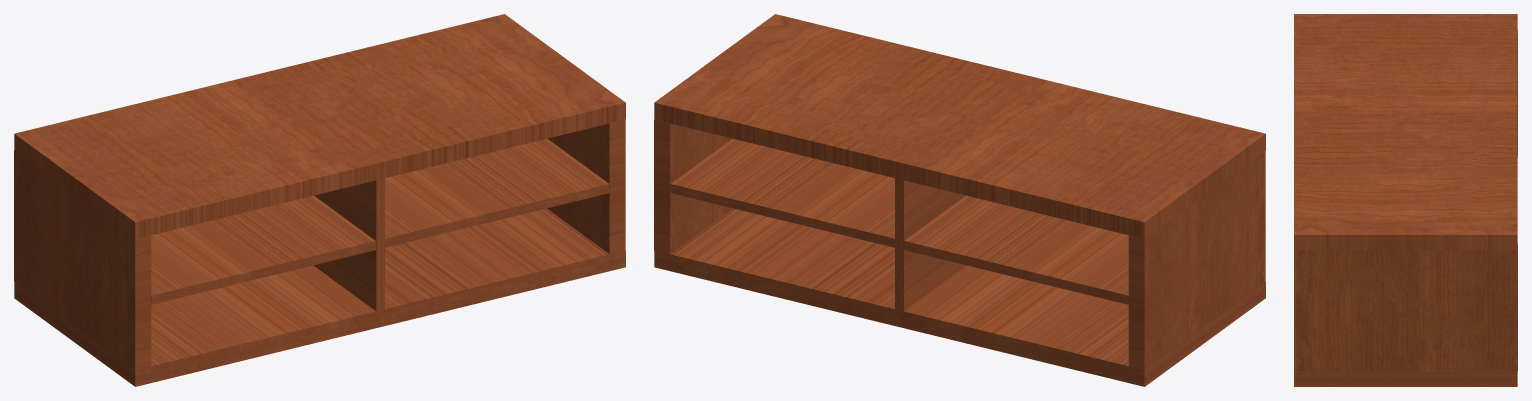
The model's file is livingroom_tv_shelf.obj.
The picture shows the model from 3 angles, left to right: view 1: azimuth 30°, elevation 25°; view 2: azimuth 150°, elevation 25°; view 3: azimuth 270°, elevation 25°; orthographic projection. The views are drawn at different scales.
Parts seen in each view (by area): view 1: Cube_1_1_4, Cube_1_1, Cube_2_2, Cube_4_6, Cube_4_1_7, Cube_2_1_3, Cube_3_5; view 2: Cube_1_1_4, Cube_1_1, Cube_2_2, Cube_4_6, Cube_4_1_7, Cube_2_1_3, Cube_3_5; view 3: Cube_1_1_4, Cube_2_1_3, Cube_1_1.
Boxes of the visible parts, x1=… form: Cube_1_1_4: x1=14, y1=14, x2=625, y2=238; Cube_1_1: x1=14, y1=208, x2=625, y2=386; Cube_2_2: x1=14, y1=150, x2=151, y2=369; Cube_4_6: x1=151, y1=195, x2=375, y2=304; Cube_4_1_7: x1=385, y1=138, x2=609, y2=247; Cube_2_1_3: x1=547, y1=119, x2=625, y2=254; Cube_3_5: x1=314, y1=178, x2=384, y2=311; Cube_1_1_4: x1=654, y1=14, x2=1265, y2=238; Cube_1_1: x1=654, y1=208, x2=1265, y2=386; Cube_2_2: x1=1128, y1=151, x2=1265, y2=370; Cube_4_6: x1=904, y1=195, x2=1128, y2=304; Cube_4_1_7: x1=670, y1=138, x2=894, y2=247; Cube_2_1_3: x1=654, y1=119, x2=732, y2=254; Cube_3_5: x1=895, y1=178, x2=966, y2=311; Cube_1_1_4: x1=1294, y1=14, x2=1517, y2=250; Cube_2_1_3: x1=1294, y1=243, x2=1517, y2=371; Cube_1_1: x1=1294, y1=263, x2=1517, y2=386.
Size of what is drawn, in the model's own units: 104 by 33.29 by 44.44.
1 material, 1 textured.
